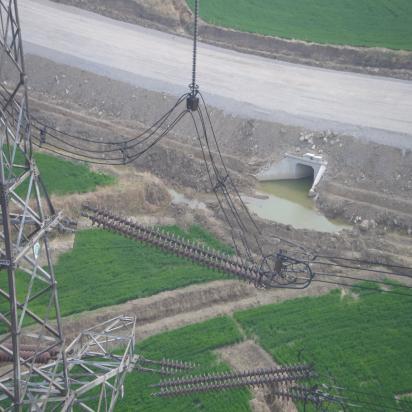insulator: (75, 211, 280, 283), (149, 345, 318, 412)
